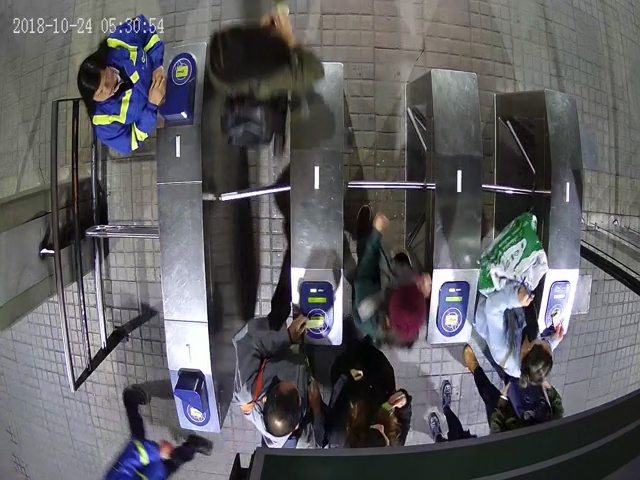Chaleco_azul: (77, 15, 166, 152)
